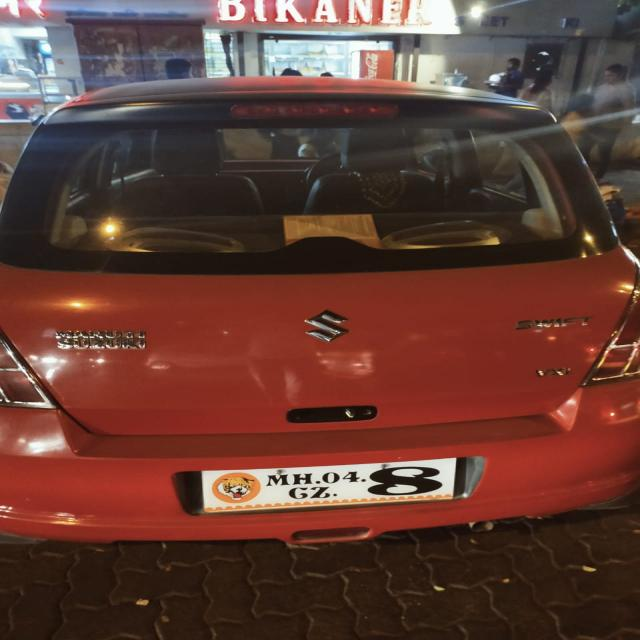Number-Plate: (200, 469, 450, 506)
